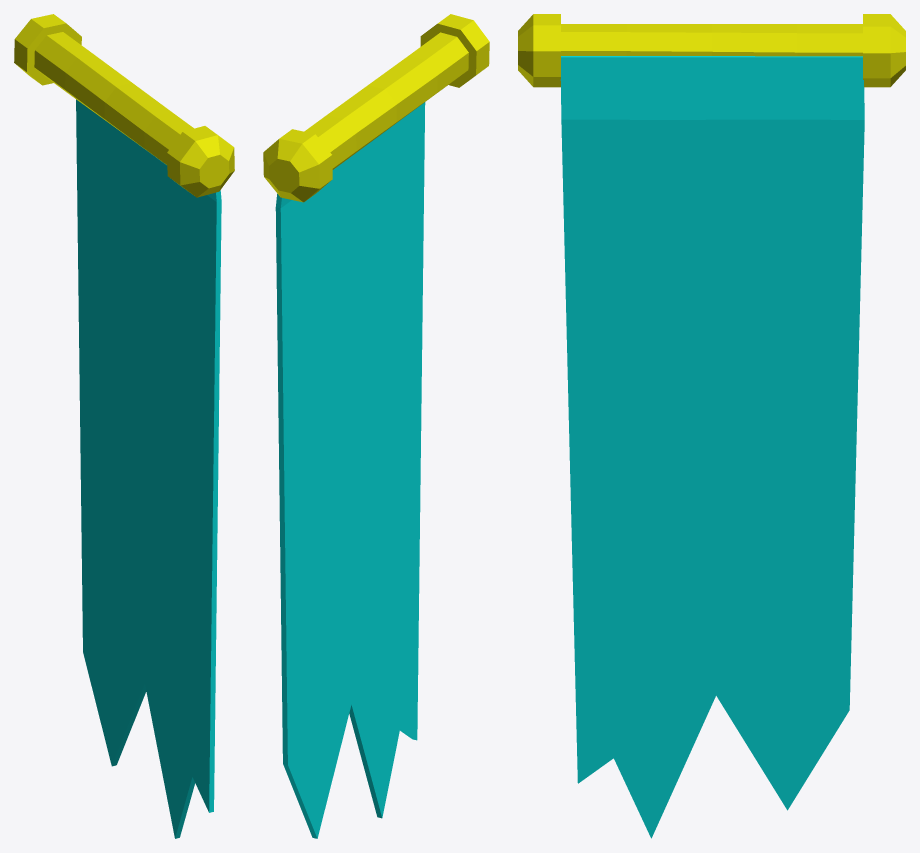
The model's file is Banner.fbx.
3 views of the same model, side by side, from view 1: azimuth 30°, elevation 25°; view 2: azimuth 150°, elevation 25°; view 3: azimuth 270°, elevation 25° (orthographic). The views are drawn at different scales.
Visible parts, largest first — view 1: Banner; view 2: Banner; view 3: Banner.
Part boxes in pixels (x1,y1,x2,y2): Banner: (14, 14, 234, 838); Banner: (263, 14, 489, 838); Banner: (518, 14, 905, 838).
Size of the model in its own units: 43.53 by 565 by 247.
